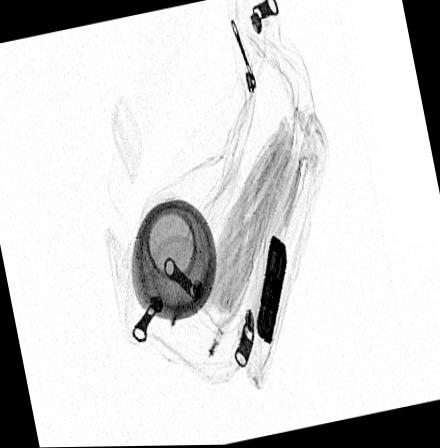Lighter: (255, 235, 285, 344)
